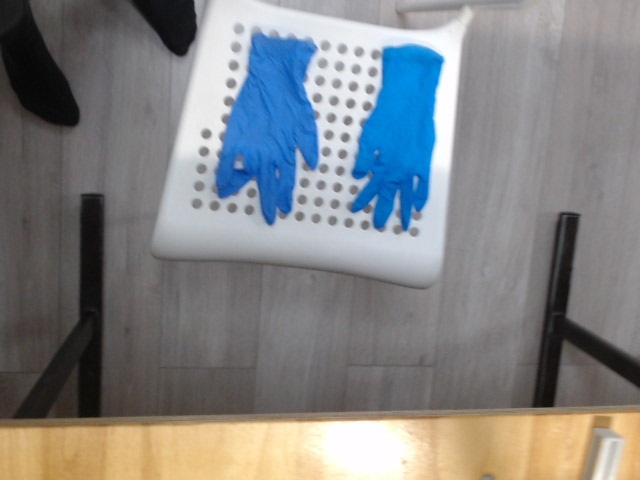medical_glove: (217, 35, 320, 225), (354, 46, 445, 231)
